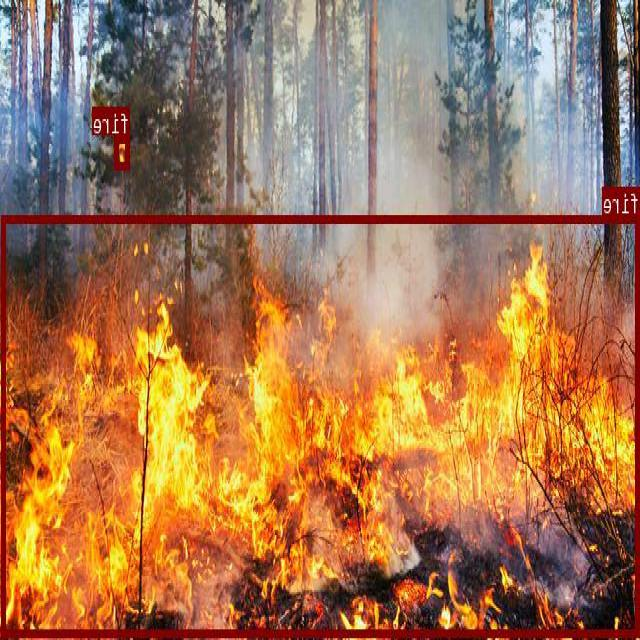fire: (2, 215, 640, 637), (116, 134, 130, 168)
